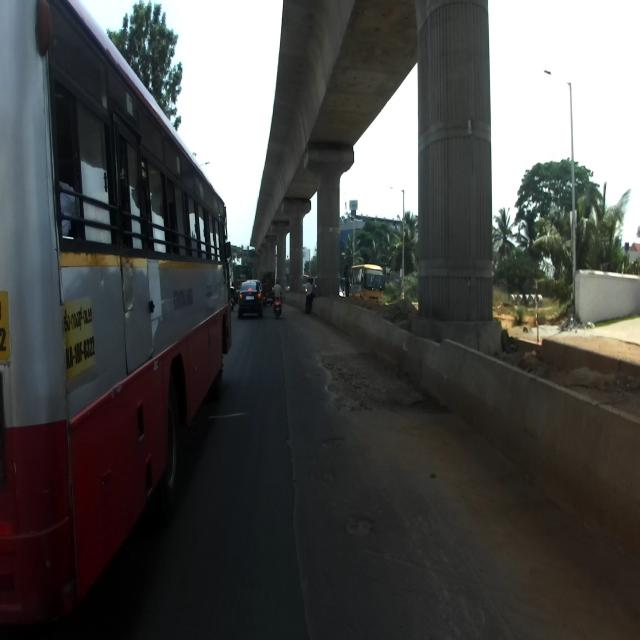Car_Skoda: (236, 273, 264, 321)
bus: (0, 0, 232, 639)
scooter: (273, 290, 282, 318)
